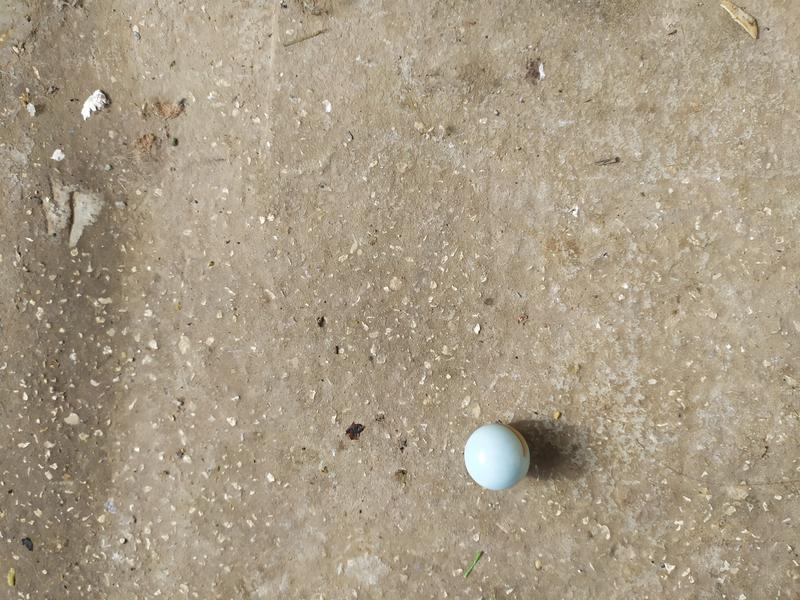Warning: (462, 421, 533, 493)
